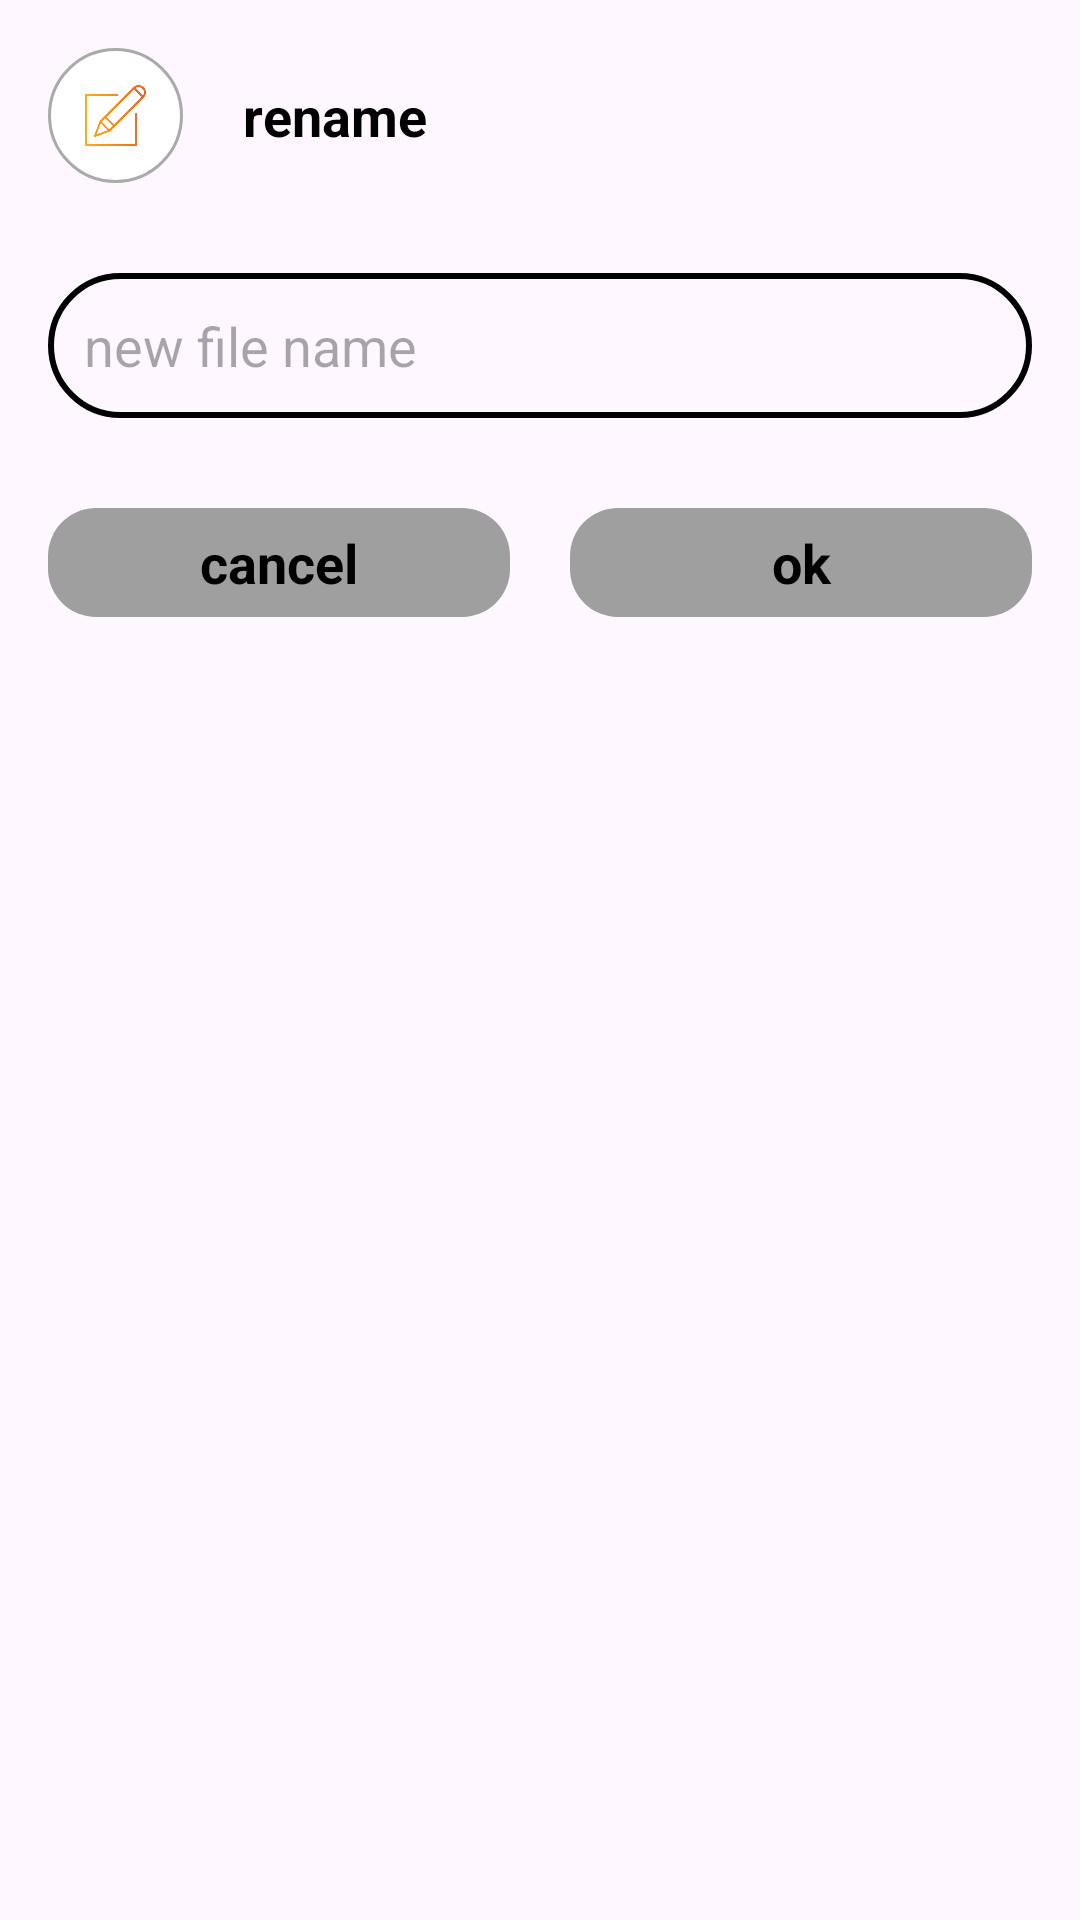

Icon bounding boxes for this 1080w x 1920h phone screenshot, format Rect(x1, y1, x2, y2):
write: Rect(48, 48, 183, 183)
